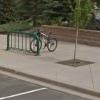Bicycle: (28, 23, 59, 55)
